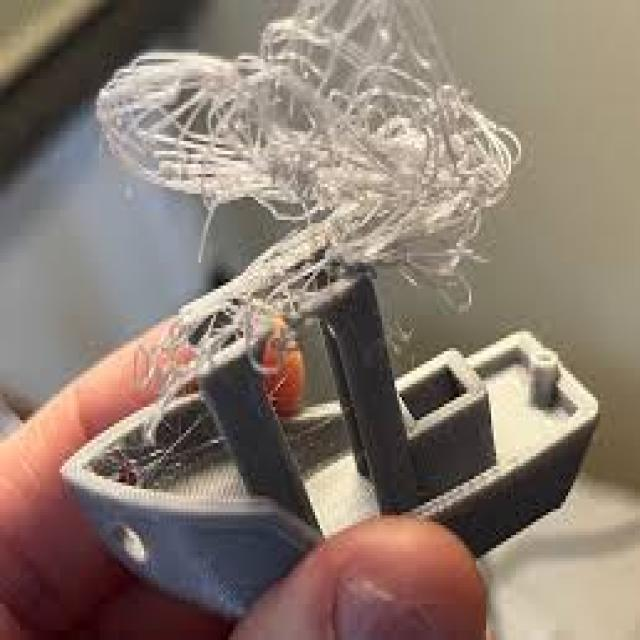spaghetti: (81, 9, 523, 336)
